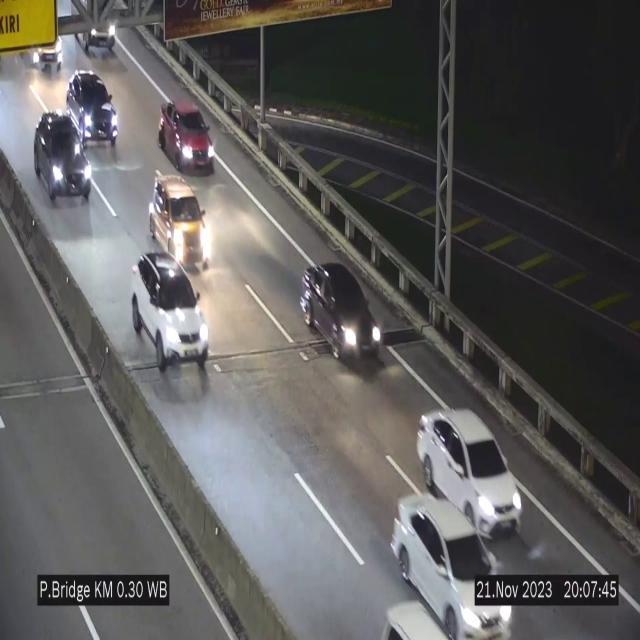Car: (390, 494, 508, 640), (418, 408, 522, 533), (132, 254, 210, 377), (301, 263, 381, 365), (148, 172, 213, 276), (32, 109, 94, 200), (65, 70, 119, 150), (159, 100, 214, 172)
